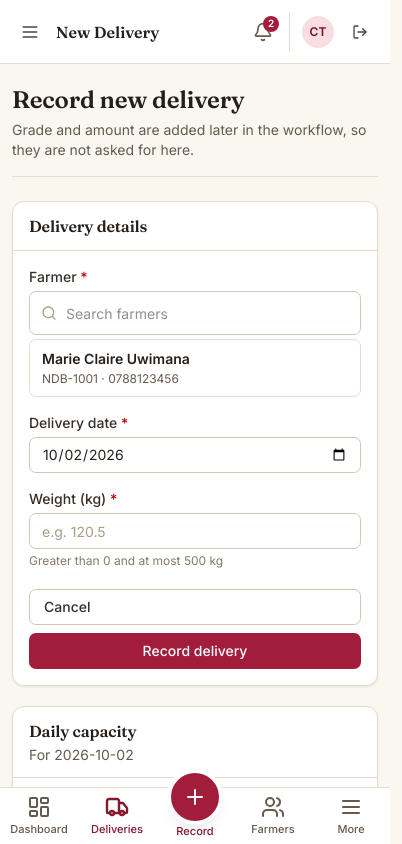
Test case: recording a delivery › previews current, new and resulting capacity as you type
The image size is (402, 844).
Type "200" into the number field labelled "Weight (kg) *" at (195, 531), box top-left (29, 513), bottom-right (361, 549)
(page scrolled)
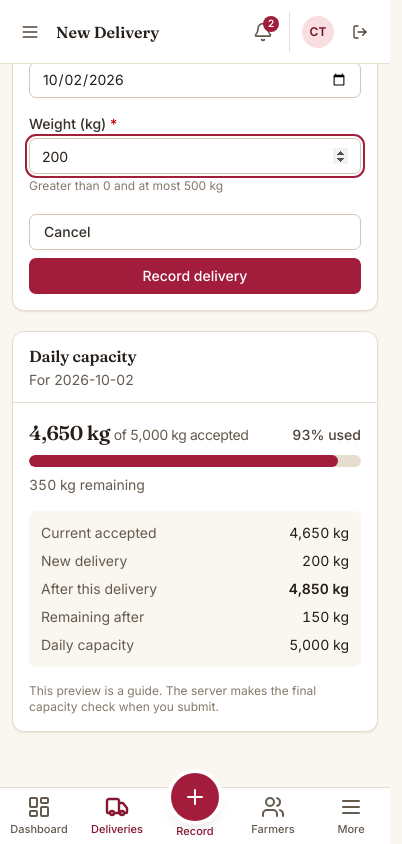
Expected: the text "4,650 kg" is shown, top-left (289, 523), bottom-right (349, 543)
Now the text "4,850 kg" is shown, box top-left (289, 579), bottom-right (349, 599)
Now the text "150 kg" is shown, box top-left (302, 607), bottom-right (349, 627)
